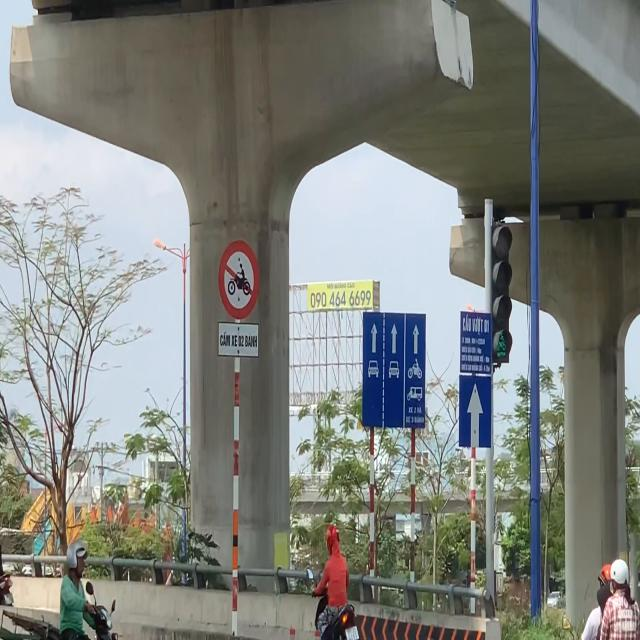Cam con lai: (218, 238, 259, 320)
Hieu lenh: (460, 374, 491, 448)
